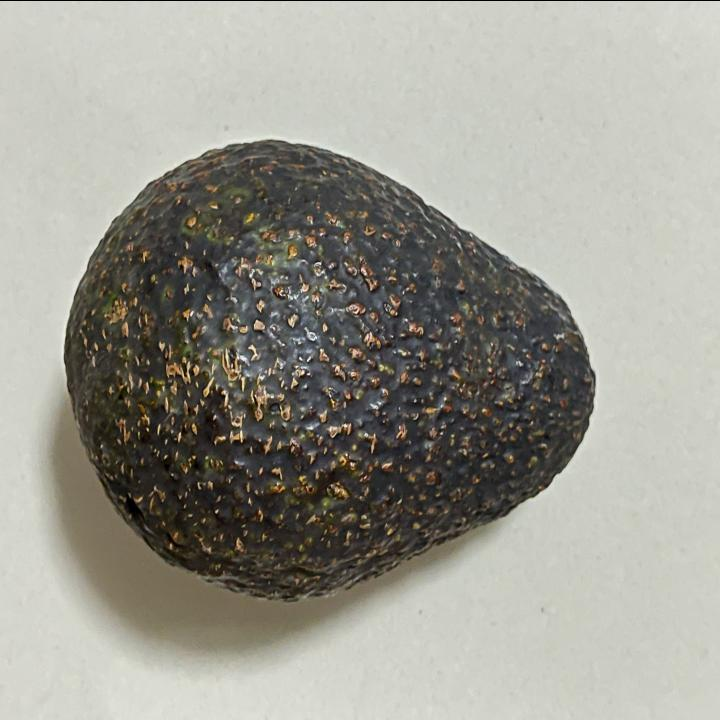Level2: (59, 125, 608, 610)
